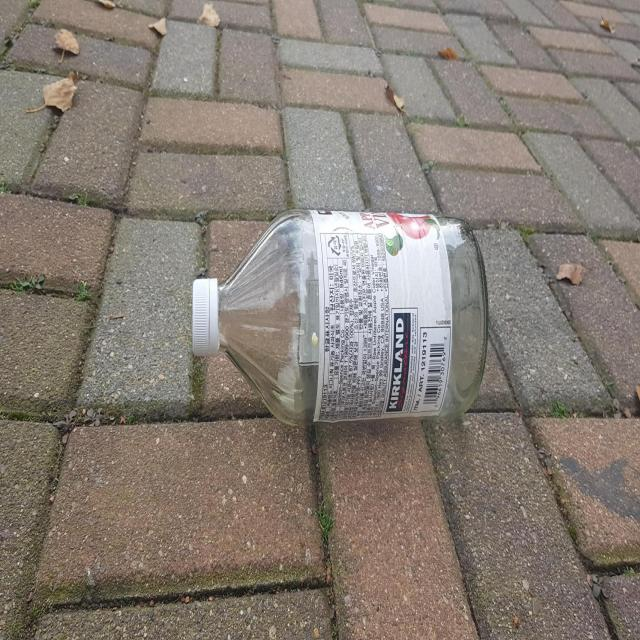glass: (192, 210, 489, 424)
